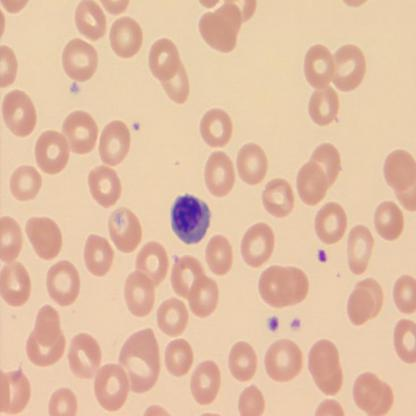NRC: (168, 190, 213, 247)
